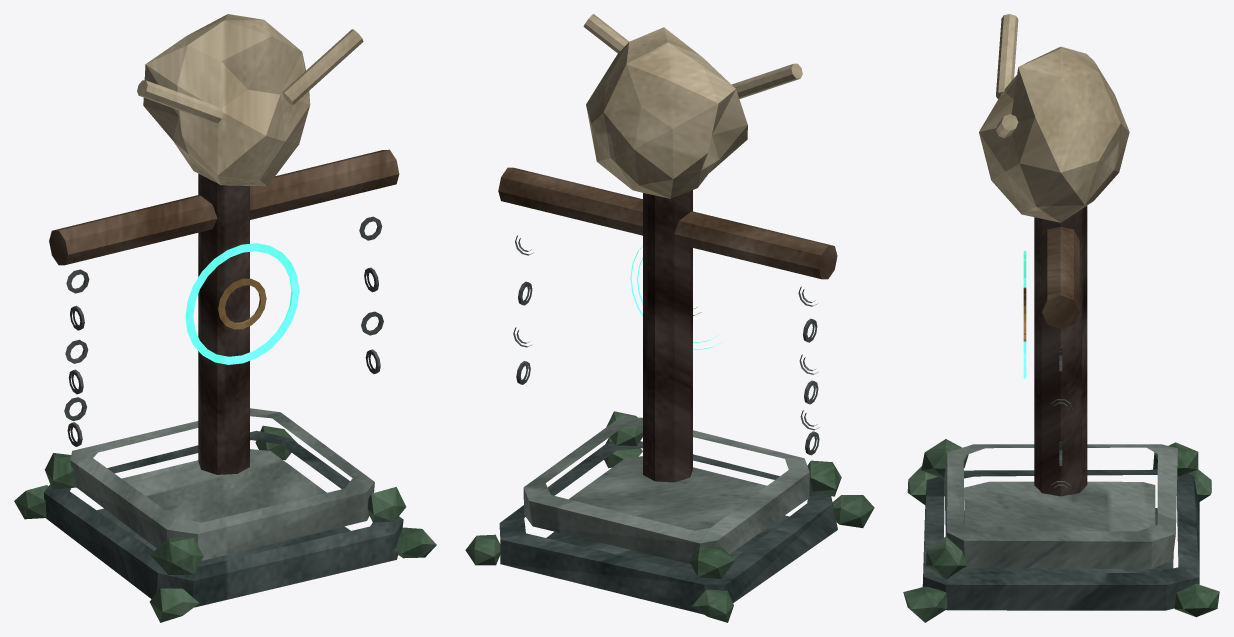
Rendered from 0524_effigy_24.glb.
3 views of the same model, side by side, from view 1: azimuth 30°, elevation 25°; view 2: azimuth 150°, elevation 25°; view 3: azimuth 270°, elevation 25° (orthographic). The views are drawn at different scales.
Visible parts, largest first — view 1: bone, stone, stone_dark, wood_dark, wood, moss, glow, iron, brass; view 2: bone, stone, stone_dark, wood_dark, wood, moss, iron; view 3: stone, bone, stone_dark, wood_dark, moss, wood.
Boxes of the visible parts, left/top/right/bottom form: bone: left=137, top=14, right=363, bottom=186; stone: left=70, top=408, right=374, bottom=560; stone_dark: left=44, top=430, right=403, bottom=607; wood_dark: left=198, top=173, right=249, bottom=474; wood: left=49, top=149, right=399, bottom=265; moss: left=14, top=425, right=436, bottom=622; glow: left=185, top=243, right=299, bottom=364; iron: left=64, top=216, right=383, bottom=446; brass: left=218, top=278, right=266, bottom=329; bone: left=583, top=14, right=802, bottom=198; stone: left=523, top=417, right=809, bottom=563; stone_dark: left=499, top=441, right=837, bottom=614; wood_dark: left=643, top=190, right=692, bottom=482; wood: left=498, top=167, right=837, bottom=279; moss: left=465, top=411, right=874, bottom=622; iron: left=513, top=235, right=819, bottom=455; stone: left=944, top=444, right=1177, bottom=569; bone: left=979, top=14, right=1129, bottom=222; stone_dark: left=922, top=469, right=1199, bottom=610; wood_dark: left=1034, top=206, right=1087, bottom=496; moss: left=903, top=439, right=1219, bottom=622; wood: left=1042, top=227, right=1079, bottom=329.
Size of the model in its own units: 2 by 3 by 1.68.
9 materials, 9 textured.
